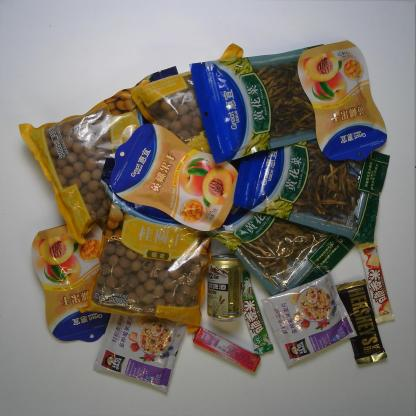Alcohol: (206, 252, 244, 321)
Candy: (190, 328, 260, 373)
Chocolate: (335, 278, 387, 366), (232, 270, 274, 354), (356, 240, 394, 325)
Dried Food: (18, 63, 201, 248), (130, 43, 270, 223), (77, 159, 215, 329), (202, 167, 356, 301), (232, 116, 390, 246), (189, 42, 346, 165)
Dried Fruit: (109, 122, 238, 232), (30, 218, 126, 344), (297, 41, 388, 164)
Instant Drink: (260, 273, 358, 370), (93, 301, 187, 394)
